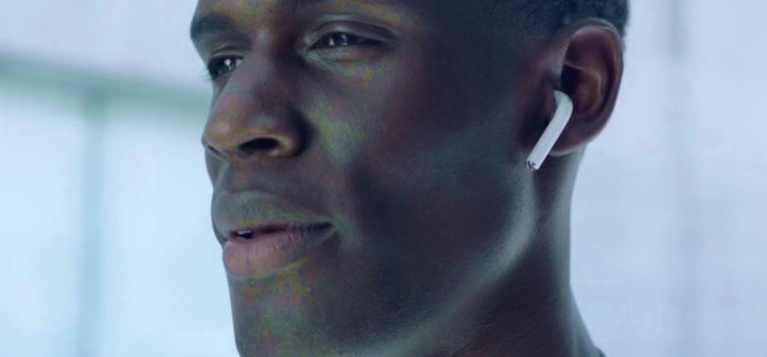earphone: (525, 17, 624, 173)
